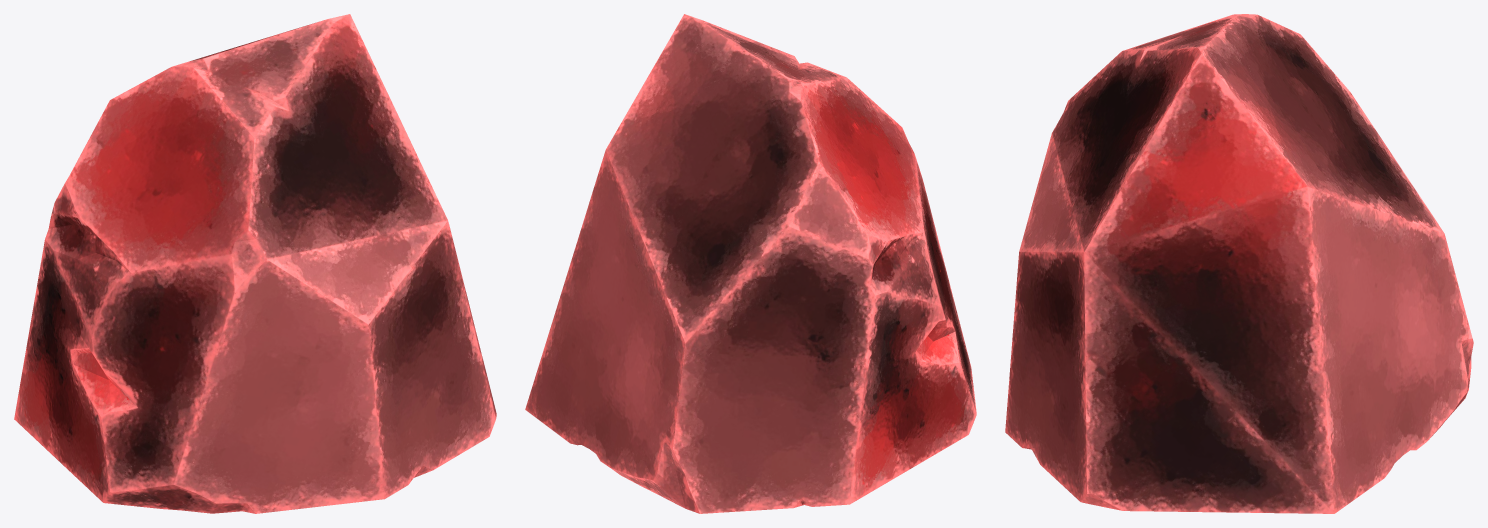
3 renders of one model, left to right at view 1: azimuth 30°, elevation 25°; view 2: azimuth 150°, elevation 25°; view 3: azimuth 270°, elevation 25°, orthographic. The views are drawn at different scales.
Parts seen in each view (by area): view 1: Rock; view 2: Rock; view 3: Rock.
Boxes of the visible parts, x1=… form: Rock: x1=14, y1=14, x2=496, y2=513; Rock: x1=525, y1=14, x2=976, y2=513; Rock: x1=1005, y1=14, x2=1473, y2=513.
Bounding box in the file's own units: 88.66 × 89.49 × 92.51.
1 material, 1 textured.
